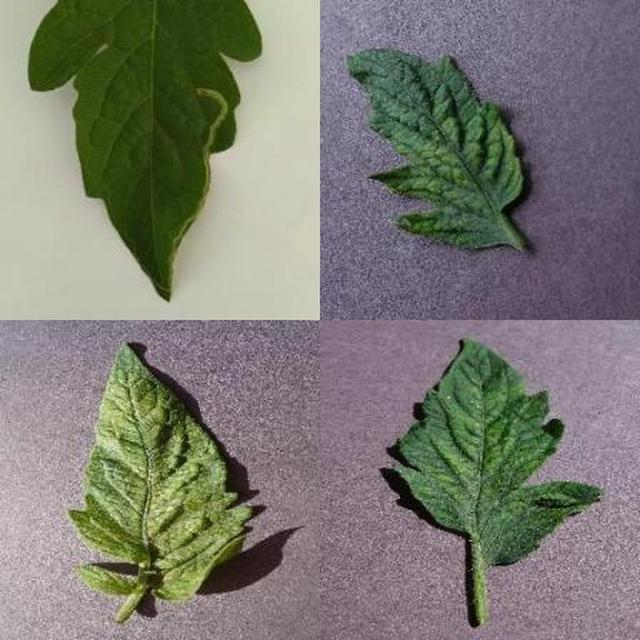Leaf Miner: (207, 211, 640, 640)
